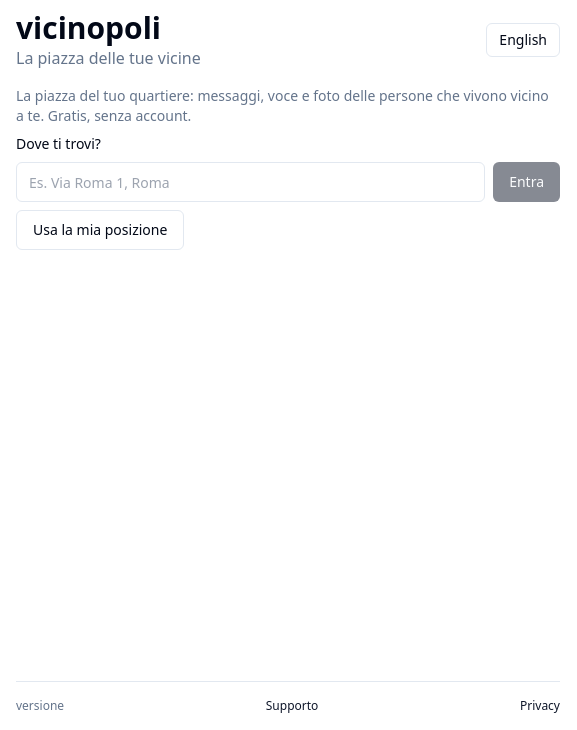
Test: App › pre-fills the address input from the browser location
Expected: the dropdown with test id "address-input" is empty, [16, 162, 485, 202]
Click the button with test id "address-locate".
click(100, 230)  # box [16, 210, 184, 250]
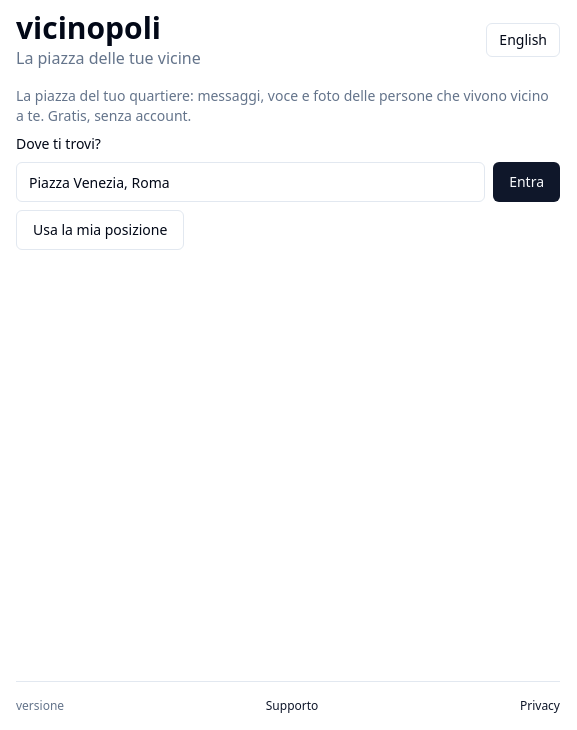
Expected: the dropdown with test id "address-input" holds "Piazza Venezia, Roma", [16, 162, 485, 202]
